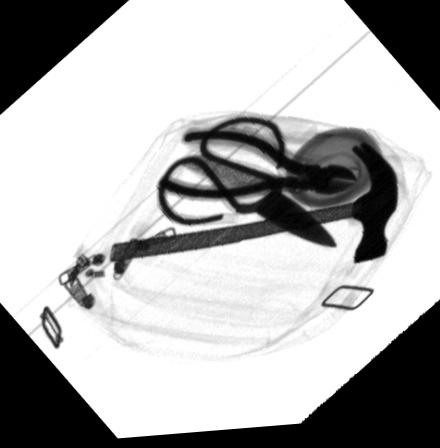Hammer: (108, 143, 398, 270)
Knife: (173, 154, 289, 207)
Pliers: (154, 129, 357, 206)
Scissors: (156, 117, 341, 255)
